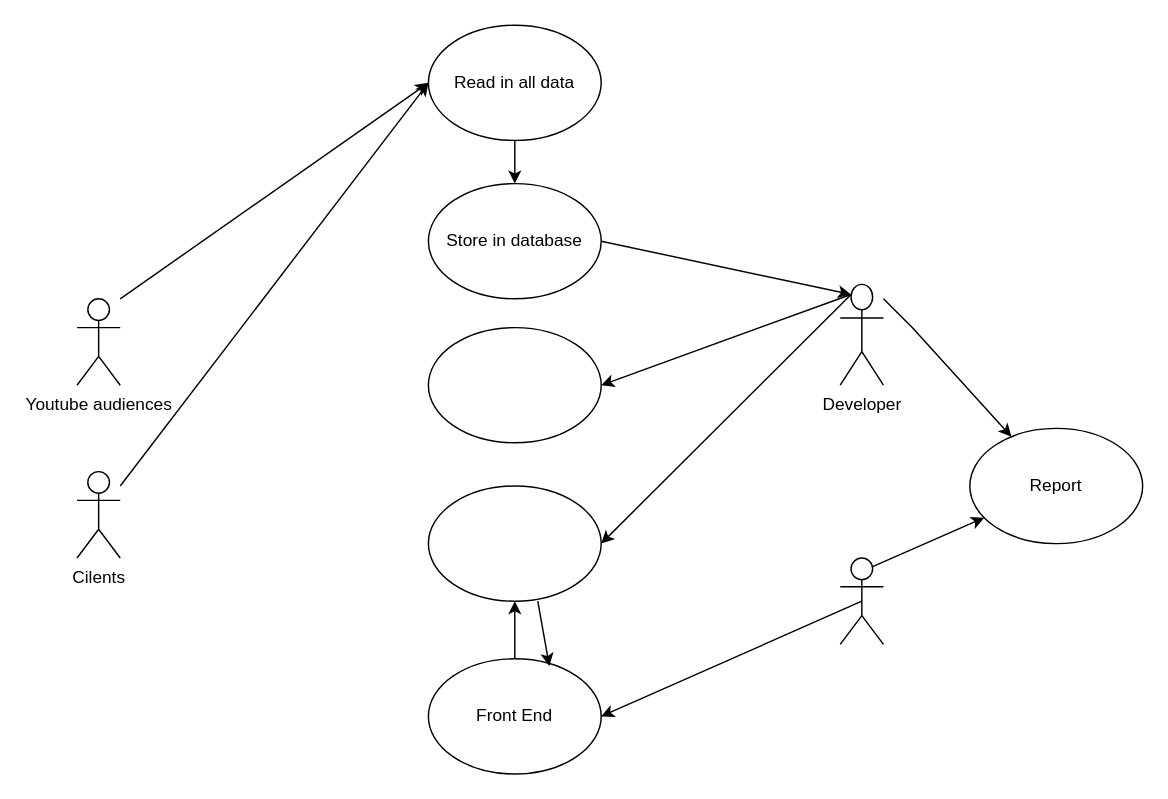
The diagram is 1168 pixels wide and 799 high, and some of its shapes have lost their labels. The box of each missing label's shape, as (x1, y1, x2, y2) in pixels:
Analyze: (427, 485, 601, 601)
Donaldson: (839, 557, 883, 644)
Export: (427, 326, 601, 443)
